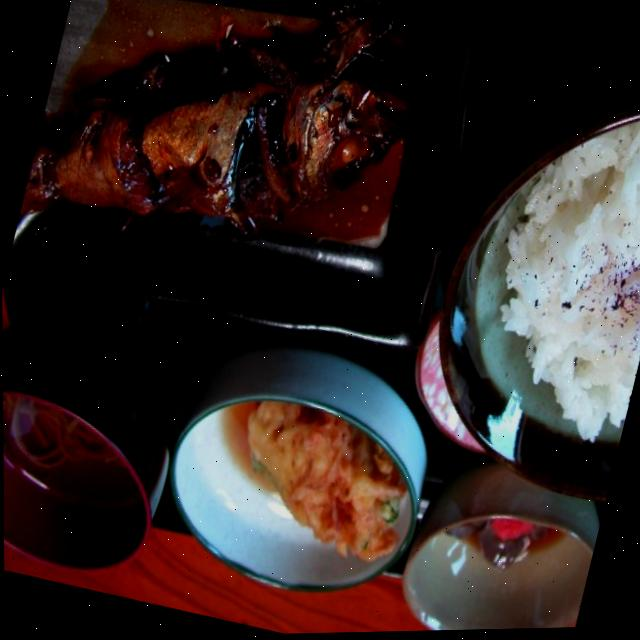熟制海鲜: (7, 0, 449, 346)
